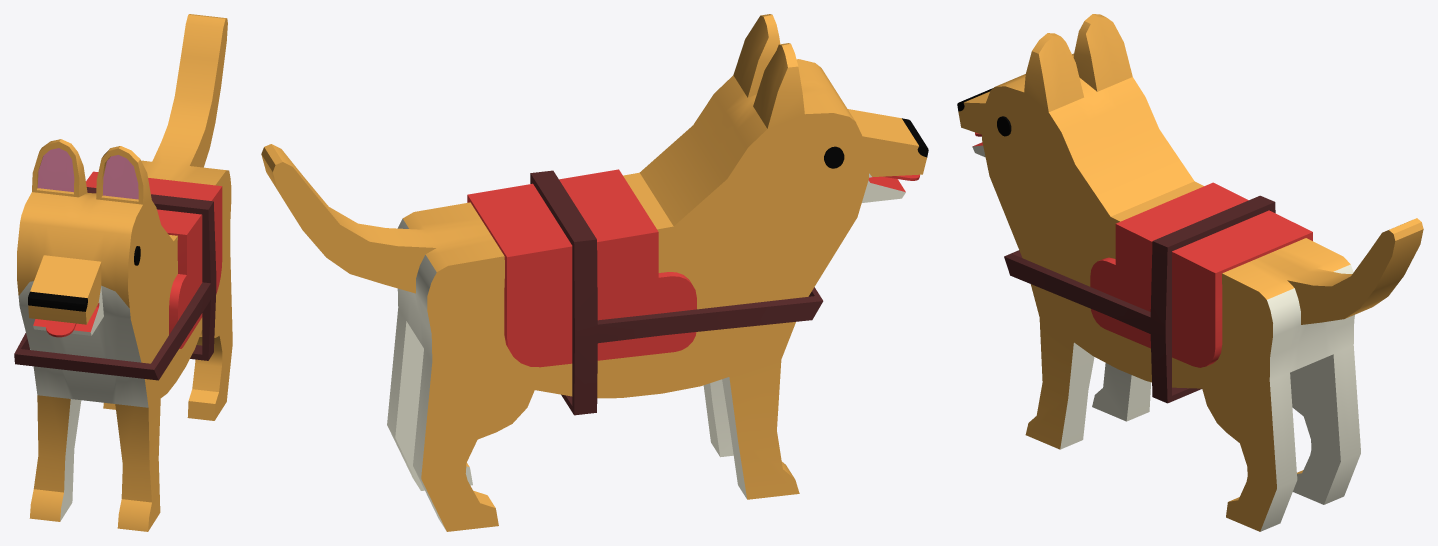
Rendered from service_dog.glb.
3 renders of one model, left to right at view 1: azimuth 30°, elevation 25°; view 2: azimuth 150°, elevation 25°; view 3: azimuth 270°, elevation 25°, orthographic. The views are drawn at different scales.
Parts seen in each view (by area): view 1: Plane.002, Cube.6176, Cube.6177, Cube.002; view 2: Plane.002, Cube.6177, Cube.6176; view 3: Plane.002, Cube.6177, Cube.6176.
Part boxes in pixels (box(x1,y1,x2,y2)): Plane.002: box(17, 14, 232, 531); Cube.6176: box(14, 187, 216, 380); Cube.6177: box(86, 171, 222, 348); Cube.002: box(46, 320, 76, 337); Plane.002: box(261, 14, 928, 531); Cube.6177: box(467, 169, 696, 367); Cube.6176: box(530, 170, 823, 415); Plane.002: box(957, 14, 1423, 531); Cube.6177: box(1090, 182, 1312, 367); Cube.6176: box(1004, 195, 1275, 403).
Size of the model in its own units: 2.06 by 1.91 by 2.06.
1 material, 1 textured.
